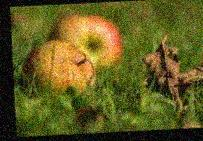rotten apple: (20, 40, 97, 90)
